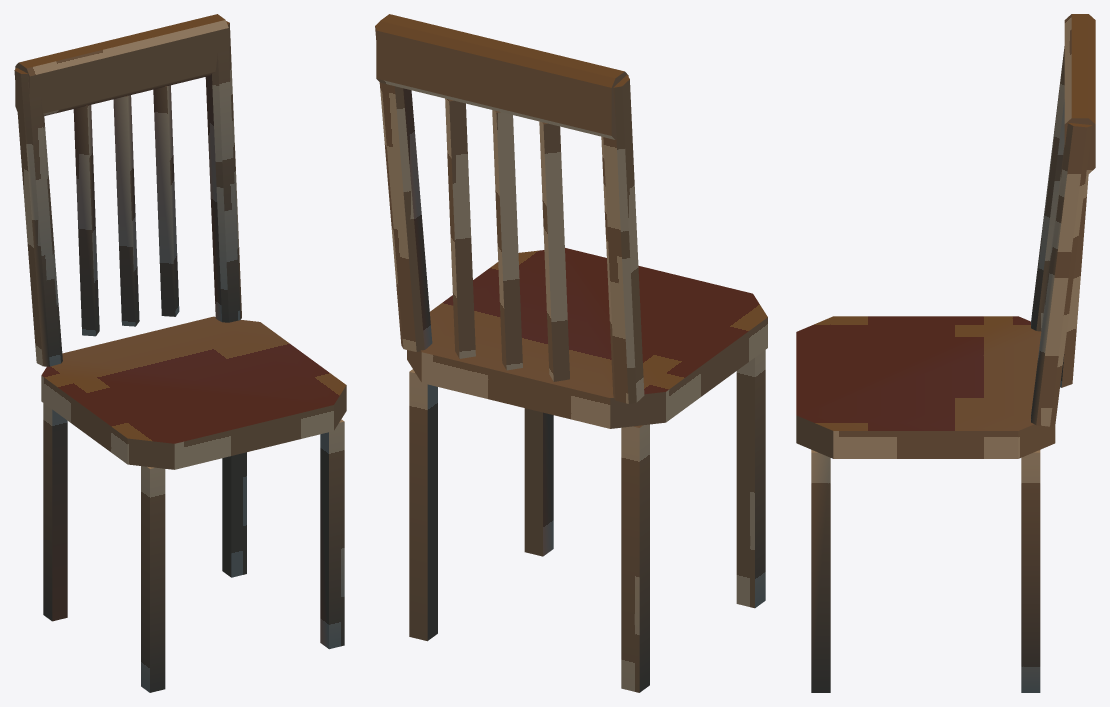
Rendered from wprop.chair.glb.
The picture shows the model from 3 angles, left to right: view 1: azimuth 30°, elevation 25°; view 2: azimuth 150°, elevation 25°; view 3: azimuth 270°, elevation 25°; orthographic projection. The views are drawn at different scales.
Visible parts, largest first — view 1: kit_seat, kit_legs, kit_back_posts, kit_spindles, kit_back; view 2: kit_seat, kit_legs, kit_back_posts, kit_back, kit_spindles; view 3: kit_seat, kit_back_posts, kit_legs, kit_back, kit_spindles.
Part boxes in pixels (left/top/right/bottom): kit_seat: left=41, top=316, right=346, bottom=469; kit_legs: left=43, top=403, right=344, bottom=692; kit_back_posts: left=14, top=21, right=241, bottom=366; kit_spindles: left=73, top=85, right=179, bottom=336; kit_back: left=15, top=14, right=228, bottom=115; kit_seat: left=407, top=248, right=767, bottom=428; kit_legs: left=409, top=350, right=765, bottom=692; kit_back_posts: left=375, top=22, right=644, bottom=403; kit_back: left=376, top=14, right=628, bottom=139; kit_spindles: left=445, top=98, right=569, bottom=381; kit_seat: left=796, top=316, right=1055, bottom=458; kit_back_posts: left=1031, top=46, right=1092, bottom=426; kit_legs: left=811, top=450, right=1040, bottom=692; kit_back: left=1064, top=14, right=1095, bottom=174; kit_spindles: left=1060, top=174, right=1088, bottom=387.
Size of the model in its own units: 0.44 by 1.03 by 0.485.
2 materials, 2 textured.
